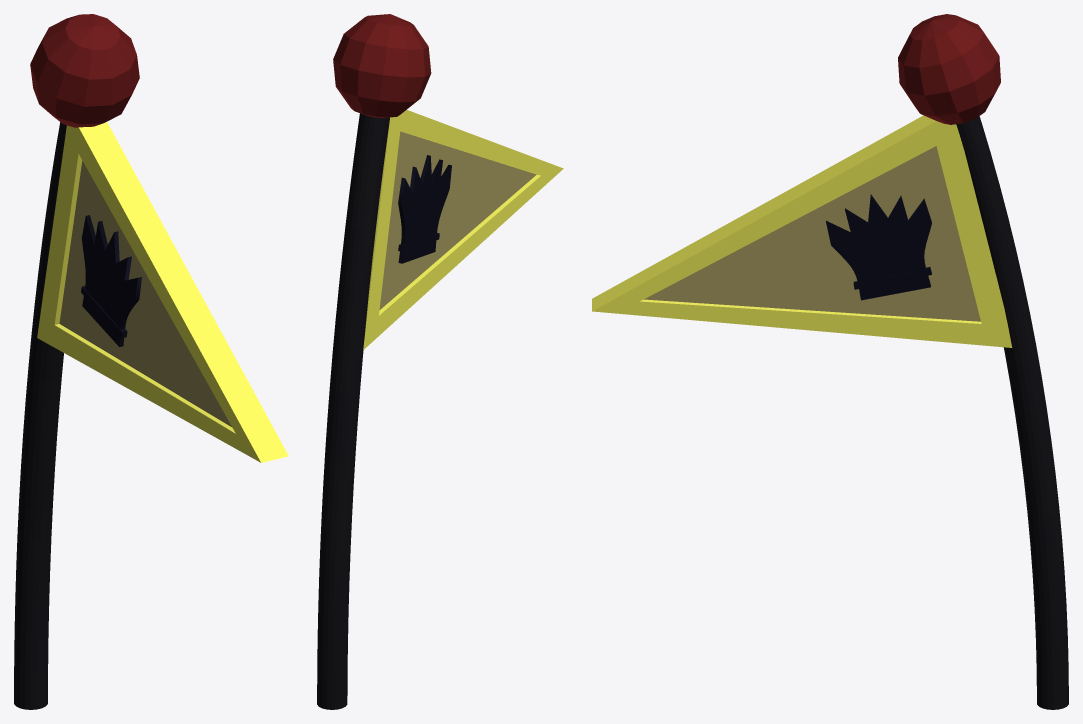
The model's file is Banderita.FBX.
The picture shows the model from 3 angles, left to right: view 1: azimuth 30°, elevation 25°; view 2: azimuth 150°, elevation 25°; view 3: azimuth 270°, elevation 25°; orthographic projection. The views are drawn at different scales.
Parts seen in each view (by area): view 1: Box001, Cylinder001, Sphere001, Box002; view 2: Box001, Cylinder001, Sphere001, Box002; view 3: Box001, Cylinder001, Sphere001, Box002.
Part boxes in pixels (left/top/right/bottom): Box001: left=37, top=122, right=288, bottom=462; Cylinder001: left=14, top=122, right=66, bottom=709; Sphere001: left=30, top=14, right=139, bottom=127; Box002: left=81, top=215, right=141, bottom=346; Box001: left=363, top=110, right=563, bottom=349; Cylinder001: left=317, top=113, right=389, bottom=709; Sphere001: left=333, top=14, right=431, bottom=117; Box002: left=398, top=155, right=451, bottom=263; Box001: left=592, top=115, right=1012, bottom=347; Cylinder001: left=956, top=116, right=1068, bottom=709; Sphere001: left=898, top=14, right=1000, bottom=124; Box002: left=826, top=194, right=931, bottom=300.
Size of the model in its own units: 21.3 by 154 by 97.17.
